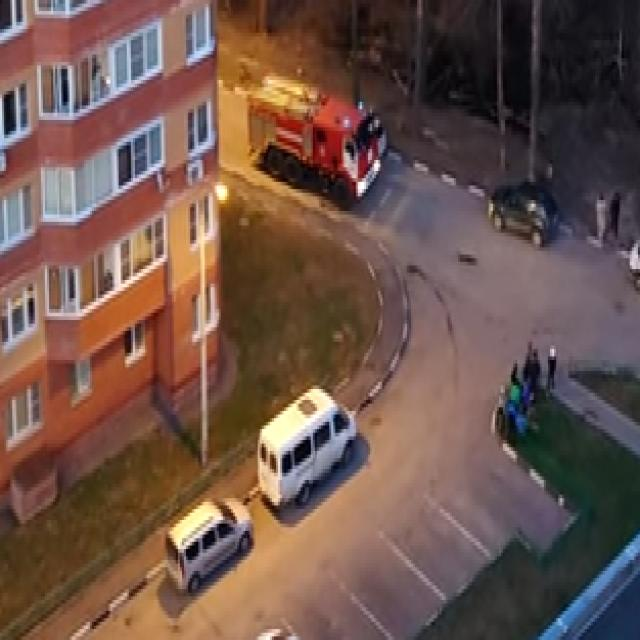fire fighting vehicle: (250, 68, 383, 210)
non emergency car: (260, 376, 356, 514), (166, 492, 250, 597), (491, 170, 560, 250)
